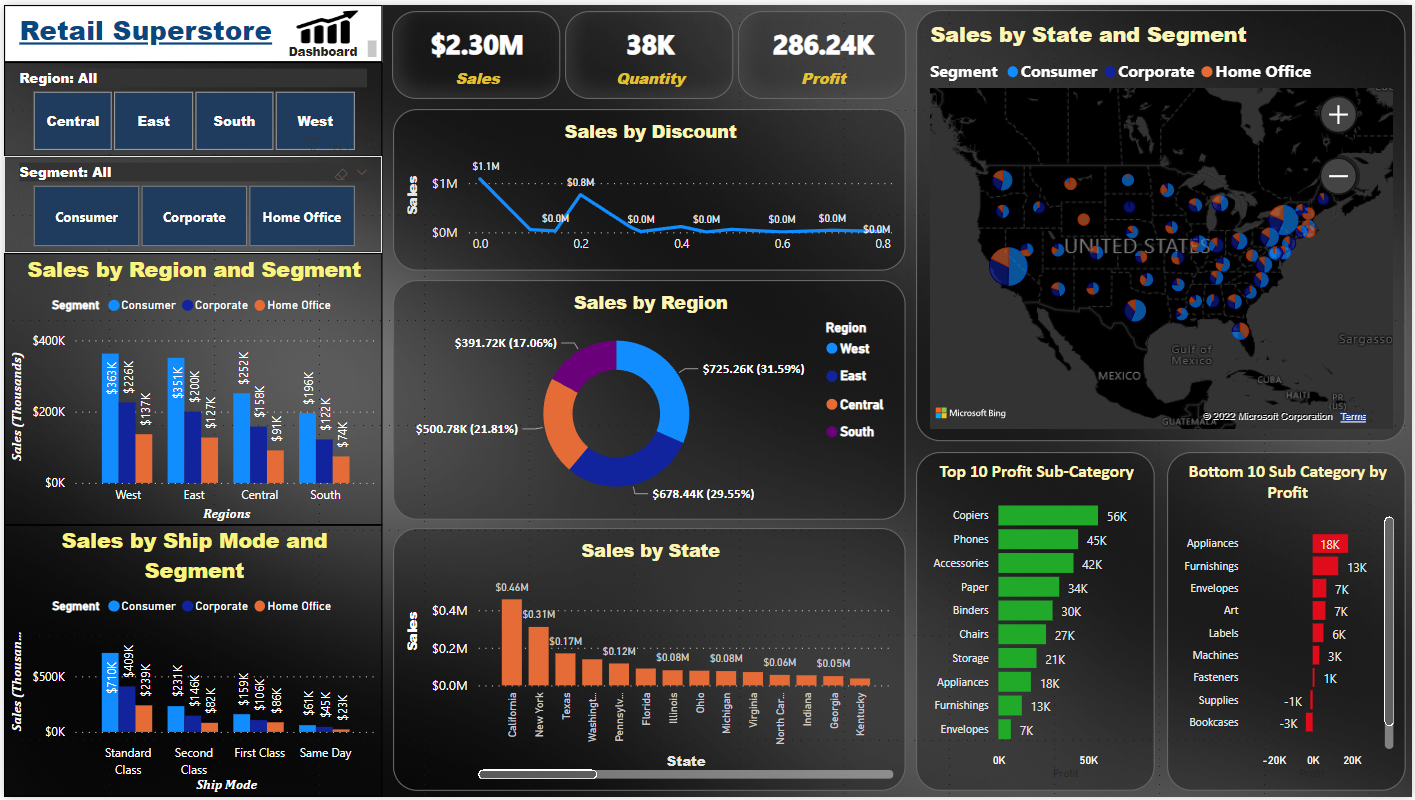

Layout of this report page (visuals, bound fields, positions):
{"tool":"powerbi","page":{"name":"Retail Dashboard","canvas":[1280,720],"ordinal":0},"visuals":[{"type":"card","fields":{"Values":["Sum(SampleSuperstore.Sales)"]},"box":[353,5,153,80],"z":0},{"type":"textbox","box":[0,0,343.6,52],"z":1000},{"type":"slicer","fields":{"Values":["SampleSuperstore.Region"]},"box":[0,51.8,343.6,86.4],"z":2000},{"type":"slicer","fields":{"Values":["SampleSuperstore.Segment"]},"box":[0,137.3,343.6,88.2],"z":3000},{"type":"image","box":[260.9,0,66.4,40],"z":4000},{"type":"card","fields":{"Values":["Sum(SampleSuperstore.Profit)"]},"box":[667.3,5.5,152.7,80],"z":5000},{"type":"card","fields":{"Values":["Sum(SampleSuperstore.Quantity)"]},"box":[510,5,153,80],"z":6000},{"type":"donutChart","fields":{"Category":["SampleSuperstore.Region"],"Y":["Sum(SampleSuperstore.Sales)"]},"box":[353.6,250,466.4,218],"z":7000},{"type":"clusteredColumnChart","title":"Sales by Region and Segment","fields":{"Category":["SampleSuperstore.Region"],"Series":["SampleSuperstore.Segment"],"Y":["Sum(SampleSuperstore.Sales)"]},"box":[0,225.5,343.6,248],"z":8000},{"type":"map","fields":{"Category":["SampleSuperstore.State"],"Size":["Sum(SampleSuperstore.Sales)"],"Series":["SampleSuperstore.Segment"]},"box":[829.1,4.5,445.5,391.8],"z":10000},{"type":"clusteredBarChart","title":"Top 10 Profit Sub-Category","fields":{"Category":["SampleSuperstore.Sub-Category"],"Y":["Sum(SampleSuperstore.Profit)"]},"box":[829.1,406.4,217.3,308],"z":11000},{"type":"clusteredBarChart","title":"Bottom 10 Sub Category by Profit","fields":{"Category":["SampleSuperstore.Sub-Category"],"Y":["Sum(SampleSuperstore.Profit)"]},"box":[1057.3,406.4,217.3,308],"z":12000},{"type":"clusteredColumnChart","fields":{"Category":["SampleSuperstore.State"],"Y":["Sum(SampleSuperstore.Sales)"]},"box":[353.6,475.5,466.4,239.1],"z":13000},{"type":"lineChart","fields":{"Category":["SampleSuperstore.Discount"],"Y":["Sum(SampleSuperstore.Sales)"]},"box":[353.6,94.5,466.4,147.3],"z":14000},{"type":"clusteredColumnChart","title":"Sales by Ship Mode and Segment","fields":{"Y":["Sum(SampleSuperstore.Sales)"],"Category":["SampleSuperstore.Ship Mode"],"Series":["SampleSuperstore.Segment"]},"box":[0,472,344,248],"z":15000},{"type":"textbox","box":[253.6,27.3,90,24.5],"z":15001}]}

Visuals, with their boxes in screenshot pixels (x1, y1, x2, y2), scaled from the page's 1280x720 canvas onto the 1415x800 screenshot:
card - Sum(SampleSuperstore.Sales): Rect(390, 6, 559, 94)
textbox: Rect(0, 0, 380, 58)
slicer - SampleSuperstore.Region: Rect(0, 58, 380, 154)
slicer - SampleSuperstore.Segment: Rect(0, 153, 380, 251)
image: Rect(288, 0, 362, 44)
card - Sum(SampleSuperstore.Profit): Rect(738, 6, 906, 95)
card - Sum(SampleSuperstore.Quantity): Rect(564, 6, 733, 94)
donutChart - SampleSuperstore.Region x Sum(SampleSuperstore.Sales): Rect(391, 278, 906, 520)
"Sales by Region and Segment" clusteredColumnChart: Rect(0, 251, 380, 526)
map - SampleSuperstore.State x Sum(SampleSuperstore.Sales): Rect(917, 5, 1409, 440)
"Top 10 Profit Sub-Category" clusteredBarChart: Rect(917, 452, 1157, 794)
"Bottom 10 Sub Category by Profit" clusteredBarChart: Rect(1169, 452, 1409, 794)
clusteredColumnChart - SampleSuperstore.State x Sum(SampleSuperstore.Sales): Rect(391, 528, 906, 794)
lineChart - SampleSuperstore.Discount x Sum(SampleSuperstore.Sales): Rect(391, 105, 906, 269)
"Sales by Ship Mode and Segment" clusteredColumnChart: Rect(0, 524, 380, 799)
textbox: Rect(280, 30, 380, 58)
